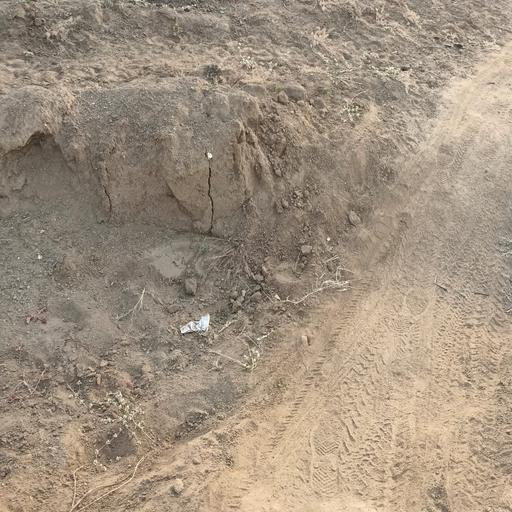vehicle_track: (217, 46, 512, 512)
